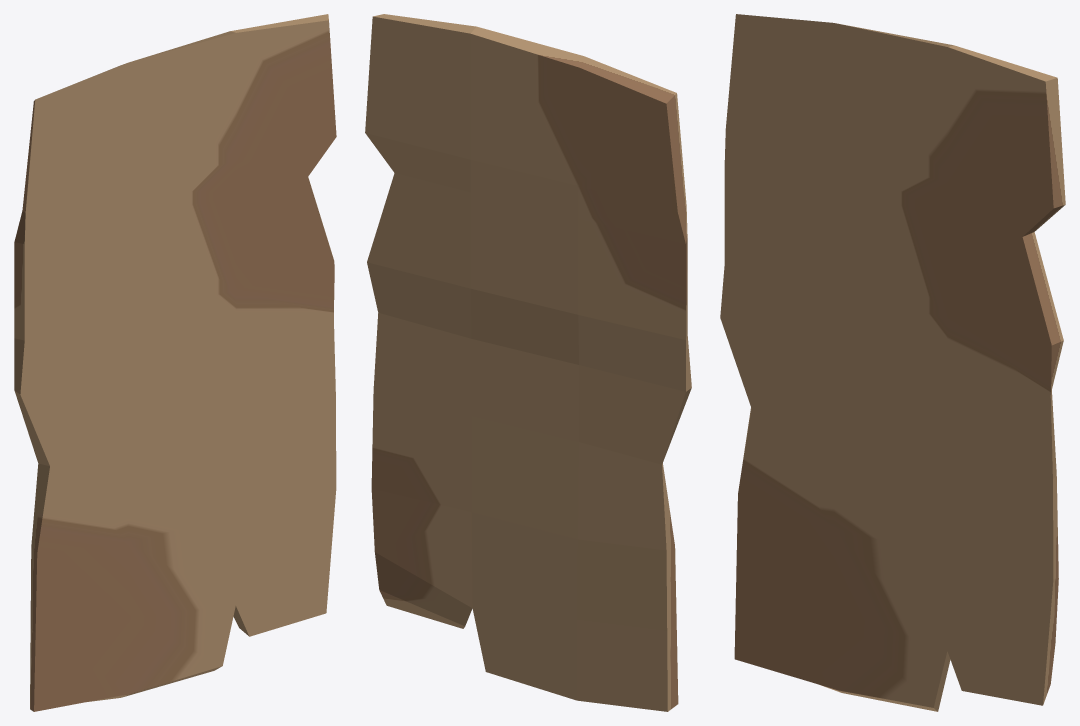
Rendered from SM_Plywood_Board_B.fbx.
3 renders of one model, left to right at view 1: azimuth 30°, elevation 25°; view 2: azimuth 150°, elevation 25°; view 3: azimuth 330°, elevation 25°, orthographic. The views are drawn at different scales.
Parts seen in each view (by area): view 1: SM_Plywood_Board_B; view 2: SM_Plywood_Board_B; view 3: SM_Plywood_Board_B.
Part boxes in pixels (x1,y1,x2,y2): SM_Plywood_Board_B: [14, 14, 336, 711]; SM_Plywood_Board_B: [365, 14, 691, 711]; SM_Plywood_Board_B: [720, 14, 1065, 711].
Bounding box in the file's own units: 130 × 249 × 5.12.
